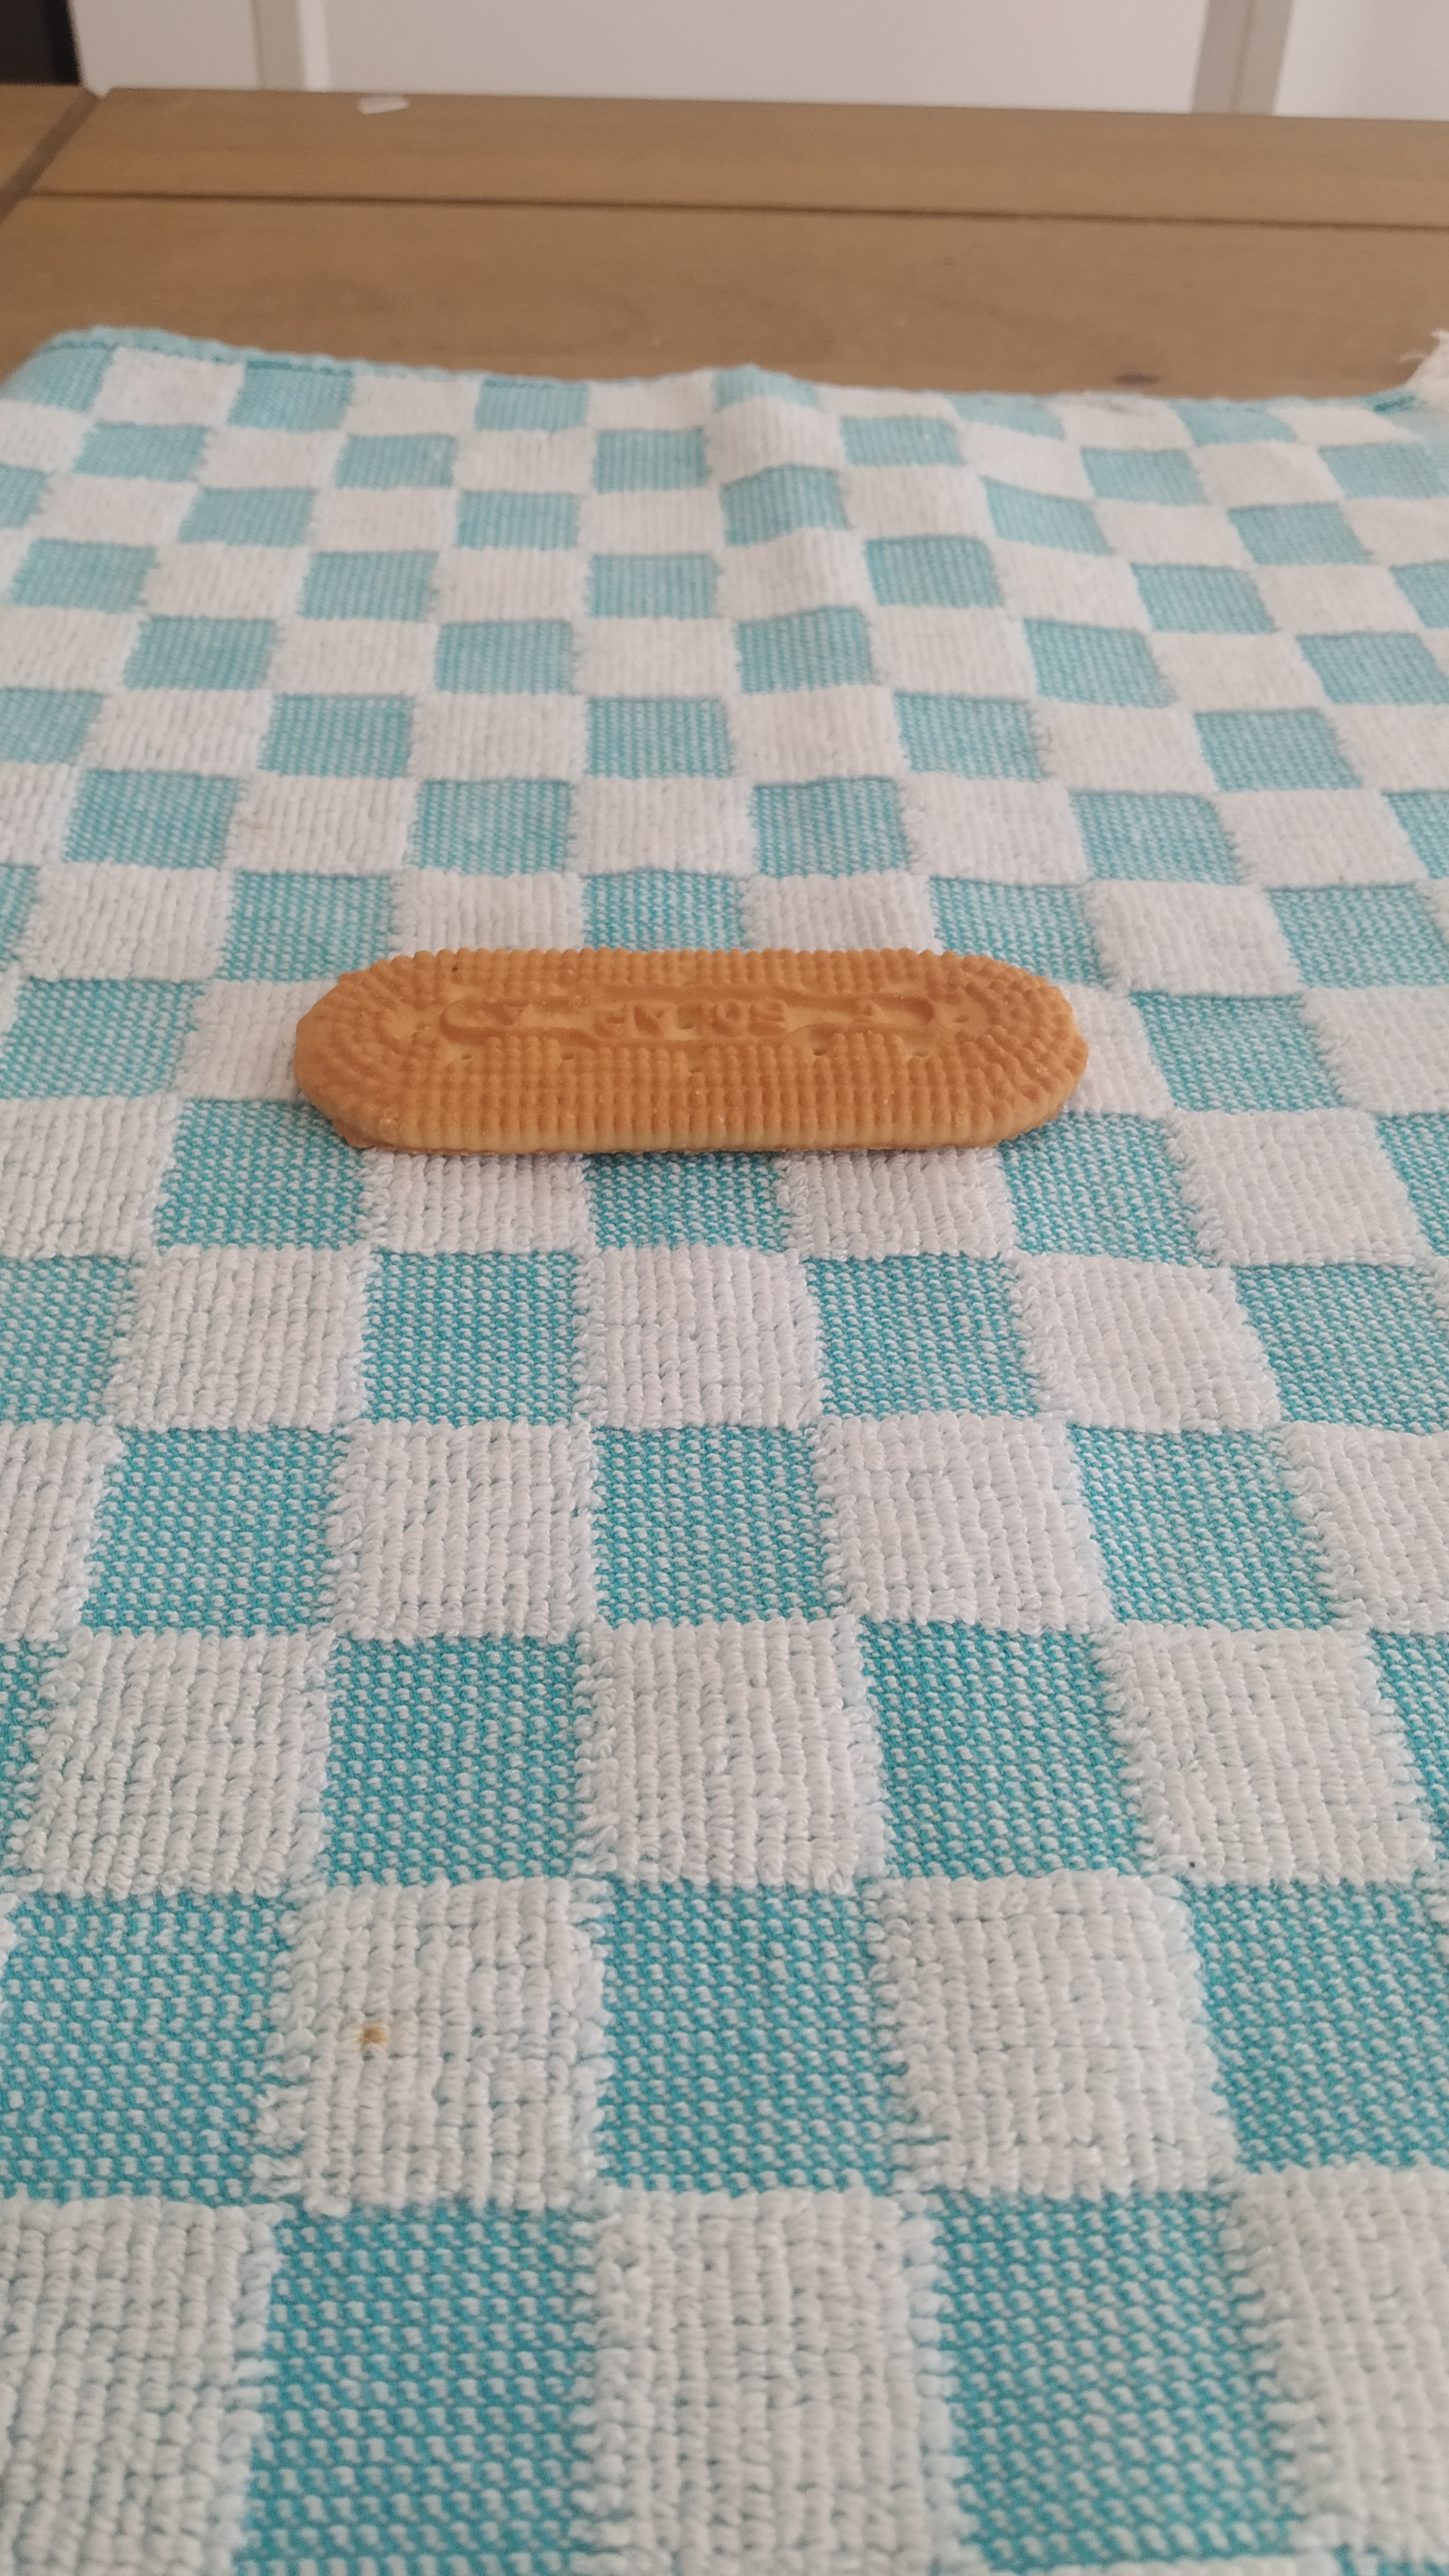solar: (294, 947, 1088, 1155)
